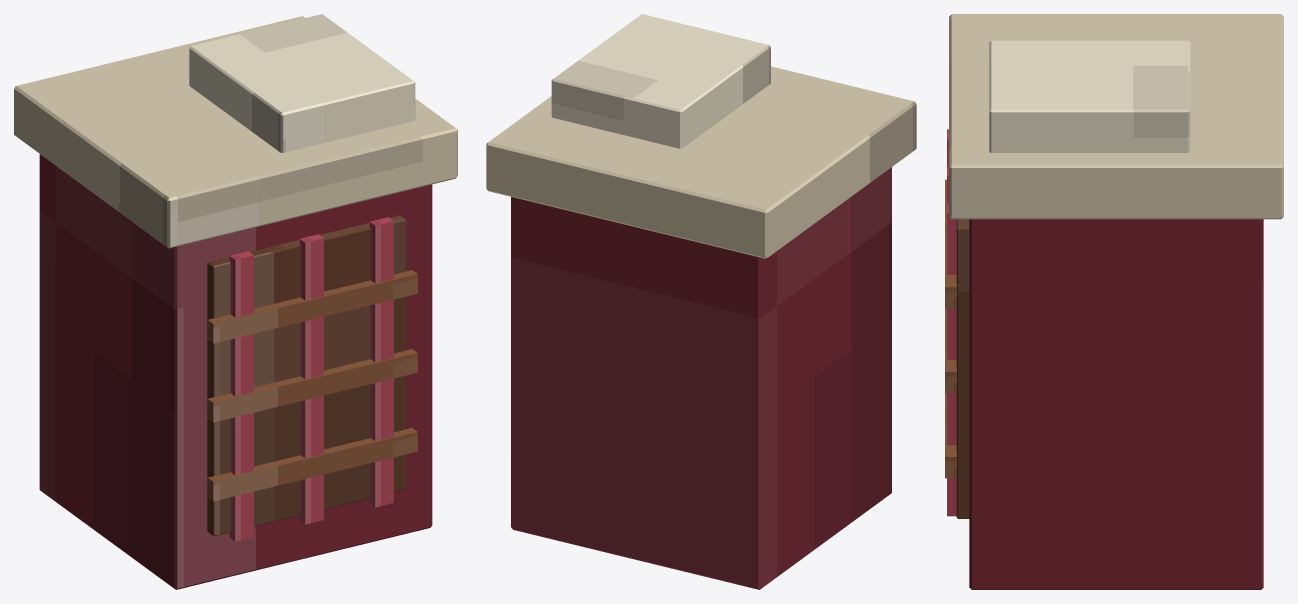
Rendered from laundry_hamper.glb.
3 renders of one model, left to right at view 1: azimuth 30°, elevation 25°; view 2: azimuth 150°, elevation 25°; view 3: azimuth 270°, elevation 25°, orthographic. The views are drawn at different scales.
Parts seen in each view (by area): view 1: HamperBody, HamperRim, HamperInset, FoldedCloth, HamperWeaveV_-0.13, HamperWeaveV_0.13, HamperWeaveV_0.0, HamperWeaveH_0.48, HamperWeaveH_0.34, HamperWeaveH_0.2; view 2: HamperBody, HamperRim, FoldedCloth; view 3: HamperBody, HamperRim, FoldedCloth, HamperInset, HamperWeaveV_0.13, HamperWeaveH_0.48, HamperWeaveH_0.2, HamperWeaveH_0.34.
Boxes of the visible parts, x1,y1,x2,y2 form: HamperBody: [39, 154, 432, 589]; HamperRim: [14, 16, 457, 248]; HamperInset: [207, 215, 406, 536]; FoldedCloth: [189, 14, 415, 152]; HamperWeaveV_-0.13: [229, 251, 253, 541]; HamperWeaveV_0.13: [369, 217, 393, 507]; HamperWeaveV_0.0: [299, 234, 323, 524]; HamperWeaveH_0.48: [207, 270, 417, 343]; HamperWeaveH_0.34: [207, 349, 417, 422]; HamperWeaveH_0.2: [207, 428, 417, 501]; HamperBody: [511, 167, 891, 589]; HamperRim: [486, 66, 916, 258]; FoldedCloth: [551, 14, 770, 148]; HamperBody: [969, 219, 1263, 589]; HamperRim: [949, 14, 1283, 219]; FoldedCloth: [989, 40, 1190, 152]; HamperInset: [956, 219, 969, 518]; HamperWeaveV_0.13: [947, 203, 957, 516]; HamperWeaveH_0.48: [945, 179, 956, 308]; HamperWeaveH_0.2: [945, 393, 956, 478]; HamperWeaveH_0.34: [945, 308, 956, 393].
Size of the model in its own units: 0.54 by 0.785 by 0.506.
1 material, 1 textured.
